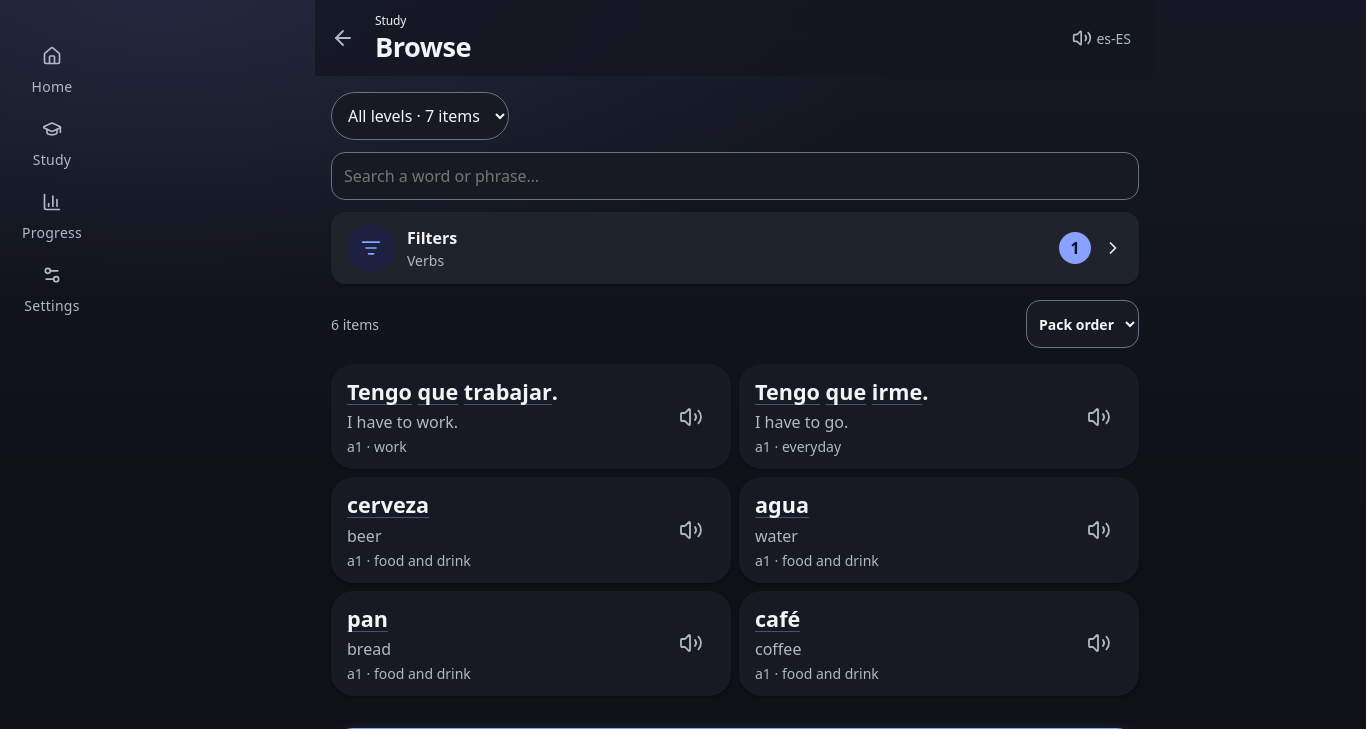
Test: a sheet the URL describes › lists a batch of word kinds the single select cannot express
This screenshot has width=1366, height=729.
Click the button with aria-label "Filters:" at (371, 248), box [331,212,1139,284]
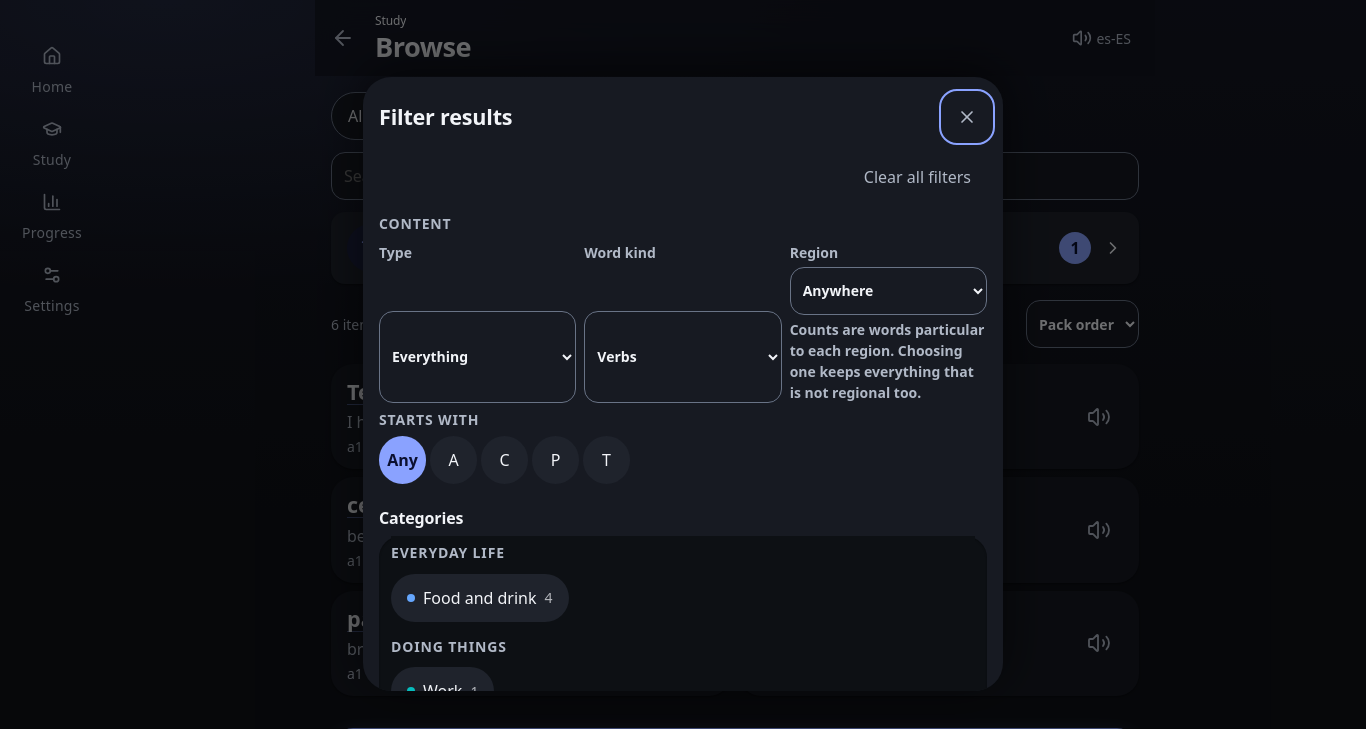
Check: the dropdown labelled "Word kind" shows "Verbs", box [584,311,782,403]
